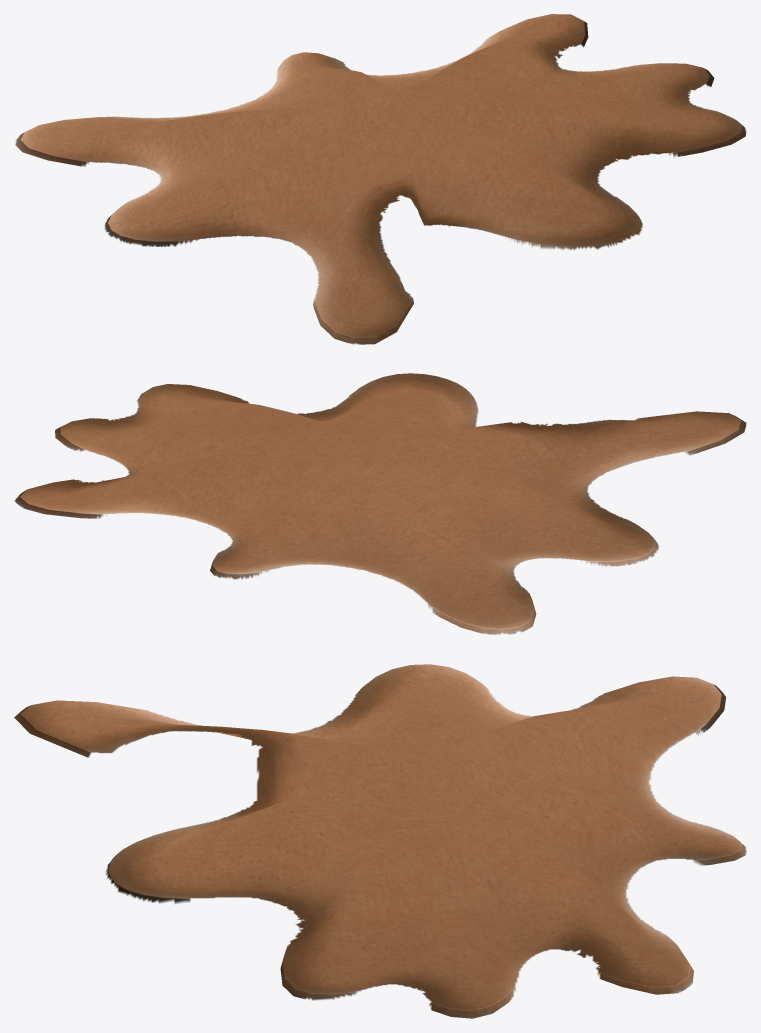
The model's file is dirt_9.glb.
The picture shows the model from 3 angles, top to bottom: view 1: azimuth 30°, elevation 25°; view 2: azimuth 150°, elevation 25°; view 3: azimuth 270°, elevation 25°; orthographic projection. The views are drawn at different scales.
Parts seen in each view (by area): view 1: dirt_9; view 2: dirt_9; view 3: dirt_9.
Boxes of the visible parts, <box> form: dirt_9: <box>15,14,746,344</box>; dirt_9: <box>14,373,746,634</box>; dirt_9: <box>14,664,746,1018</box>.
Bounding box in the file's own units: 0.859 × 0.0677 × 0.7556.
Materials: 1 (1 with a texture image).
